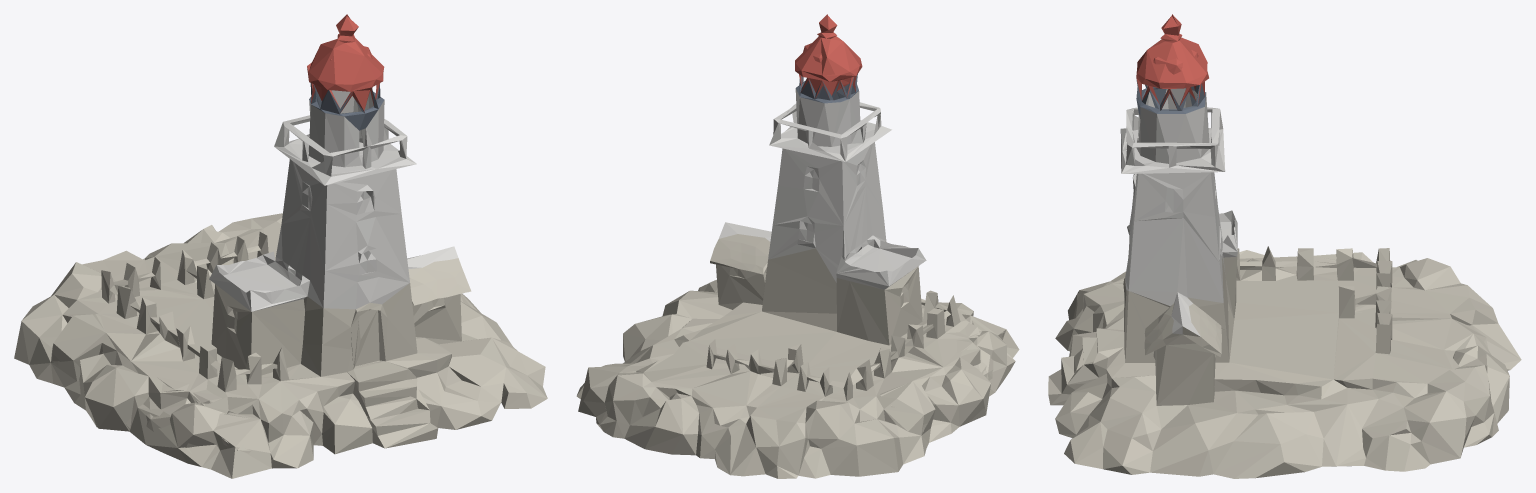
Rendered from phare.glb.
3 views of the same model, side by side, from view 1: azimuth 30°, elevation 25°; view 2: azimuth 150°, elevation 25°; view 3: azimuth 270°, elevation 25° (orthographic). The views are drawn at different scales.
Visible parts, largest first — view 1: phare; view 2: phare; view 3: phare.
Part boxes in pixels (x1,y1,x2,y2): phare: (14,14,547,478); phare: (576,14,1019,478); phare: (1048,14,1521,478).
Bounding box in the file's own units: 0.8239 × 0.75 × 0.8502.
